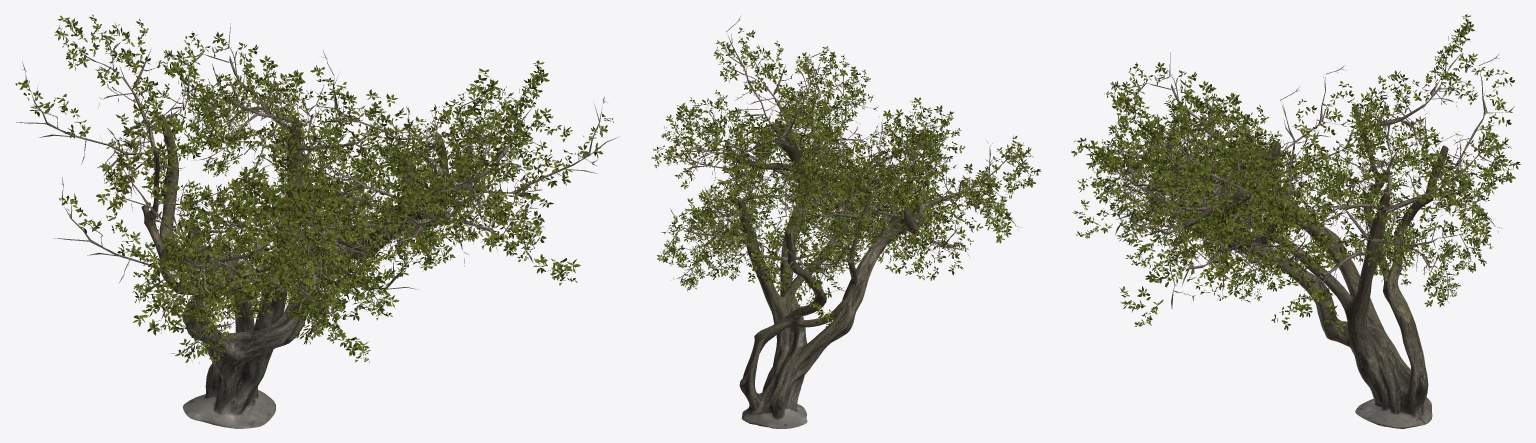
Rendered from island_tree_02.glb.
3 renders of one model, left to right at view 1: azimuth 30°, elevation 25°; view 2: azimuth 150°, elevation 25°; view 3: azimuth 270°, elevation 25°, orthographic. The views are drawn at different scales.
Parts seen in each view (by area): view 1: island_tree_02_LOD1.002, island_tree_02_LOD1.003, island_tree_02_LOD1.001; view 2: island_tree_02_LOD1.002, island_tree_02_LOD1.001, island_tree_02_LOD1.003; view 3: island_tree_02_LOD1.002, island_tree_02_LOD1.001, island_tree_02_LOD1.003.
Boxes of the visible parts, box(x1,y1,x2,y2) form: island_tree_02_LOD1.002: box(15, 14, 613, 364); island_tree_02_LOD1.003: box(16, 23, 619, 363); island_tree_02_LOD1.001: box(141, 114, 484, 428); island_tree_02_LOD1.002: box(651, 27, 1040, 328); island_tree_02_LOD1.001: box(725, 123, 924, 428); island_tree_02_LOD1.003: box(660, 15, 1033, 307); island_tree_02_LOD1.002: box(1071, 14, 1520, 331); island_tree_02_LOD1.001: box(1147, 106, 1448, 428); island_tree_02_LOD1.003: box(1097, 36, 1514, 323).
Size of the model in its own units: 4.06 by 3.41 by 4.07.
Materials: 3 (3 with a texture image).
